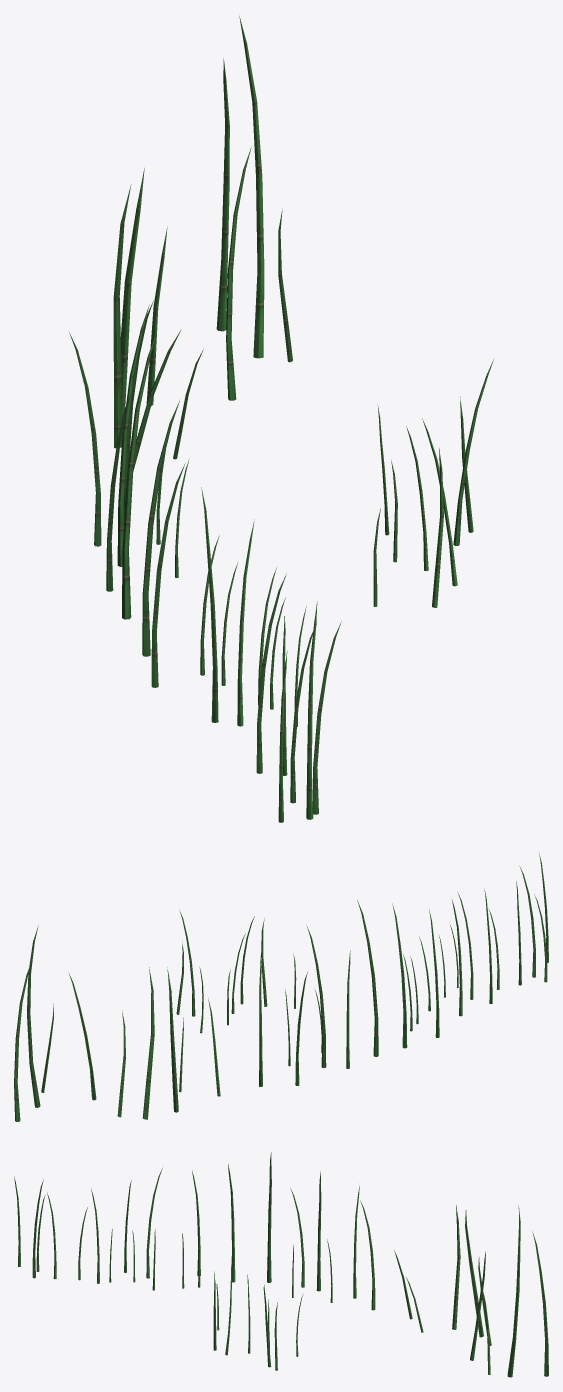
File: Area_13_8.fbx
3 views of the same model, one above another, from view 1: azimuth 30°, elevation 25°; view 2: azimuth 150°, elevation 25°; view 3: azimuth 270°, elevation 25° (orthographic). The views are drawn at different scales.
Visible parts, largest first — view 1: Area_13_8; view 2: Area_13_8; view 3: Area_13_8.
Part boxes in pixels (x1,y1,x2,y2): Area_13_8: [69, 16, 493, 822]; Area_13_8: [14, 853, 548, 1121]; Area_13_8: [14, 1152, 548, 1377].
Bounding box in the file's own units: 2952 × 2141 × 5878.
